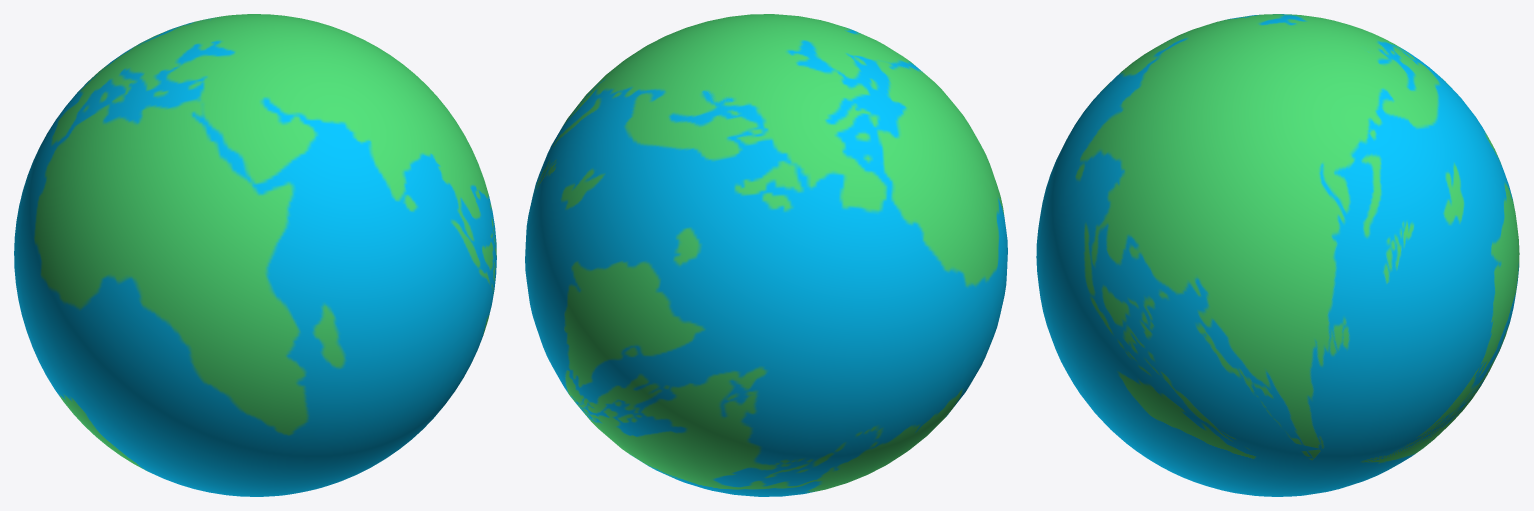
The model's file is HandRainbowWorld.gltf.
3 renders of one model, left to right at view 1: azimuth 30°, elevation 25°; view 2: azimuth 150°, elevation 25°; view 3: azimuth 270°, elevation 25°, orthographic.
Visible parts, largest first — view 1: Sphere 3; view 2: Sphere 3; view 3: Sphere 3.
Part boxes in pixels (x1=…): Sphere 3: x1=14, y1=14, x2=496, y2=496; Sphere 3: x1=525, y1=14, x2=1007, y2=496; Sphere 3: x1=1036, y1=14, x2=1519, y2=496.
Bounding box in the file's own units: 0.0537 × 0.0537 × 0.0537.
Materials: 1 (1 with a texture image).
